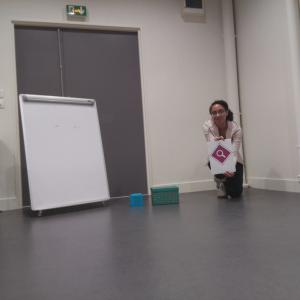big: (18, 92, 111, 212)
small: (150, 185, 181, 205), (129, 192, 144, 207)
